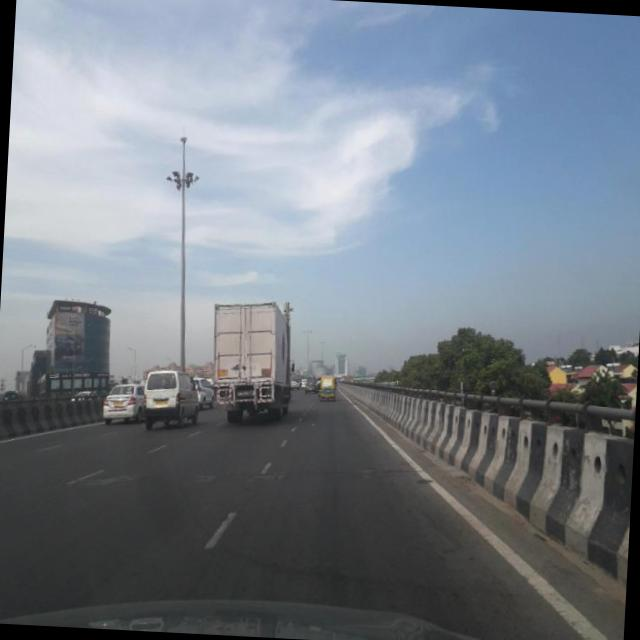pothole: (407, 499, 466, 560), (76, 466, 142, 498), (196, 464, 222, 487), (262, 462, 288, 485)
